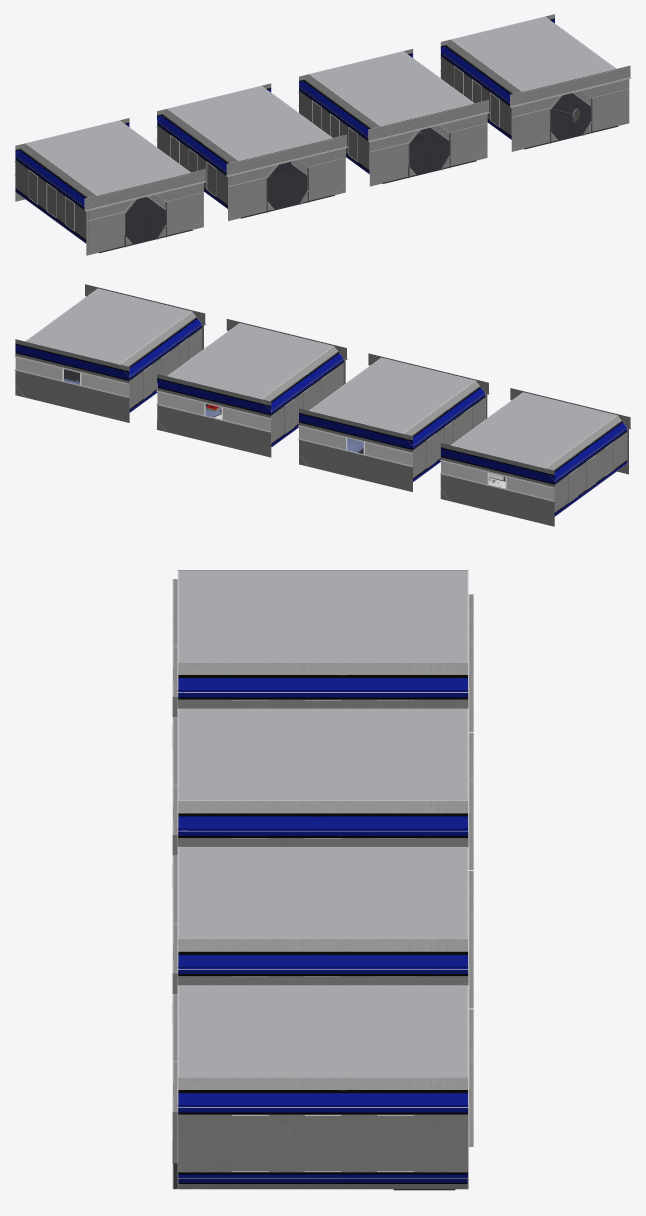
Rendered from CellsExport.fbx.
3 views of the same model, one above another, from view 1: azimuth 30°, elevation 25°; view 2: azimuth 150°, elevation 25°; view 3: azimuth 270°, elevation 25° (orthographic). The views are drawn at different scales.
Visible parts, largest first — view 1: Cell_1_Walls, Cell_4_Walls, Cell_3_Walls, Cell_2_Walls; view 2: Cell_1_Walls, Cell_4_Walls, Cell_3_Walls, Cell_2_Walls; view 3: Cell_4_Walls, Cell_2_Walls, Cell_1_Walls, Cell_3_Walls.
Boxes of the visible parts, x1,y1,x2,y2 form: Cell_1_Walls: (14,118,206,255); Cell_4_Walls: (439,14,631,151); Cell_3_Walls: (298,49,489,186); Cell_2_Walls: (156,83,347,221); Cell_1_Walls: (439,388,631,526); Cell_4_Walls: (14,284,206,422); Cell_3_Walls: (156,319,347,457); Cell_2_Walls: (298,353,489,491); Cell_4_Walls: (172,985,473,1189); Cell_2_Walls: (172,708,473,912); Cell_1_Walls: (172,570,473,773); Cell_3_Walls: (172,846,473,1050).
Size of the model in its own units: 34.65 by 3.52 by 8.29.
